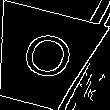O_S: (11, 28, 74, 88)
